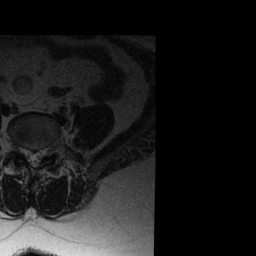CCS_normal: (30, 144, 37, 170)
LFS_normal: (43, 140, 50, 161)
LLS_normal: (37, 143, 44, 165)
RFS_normal: (17, 139, 24, 159)
RLS_normal: (23, 141, 30, 164)
